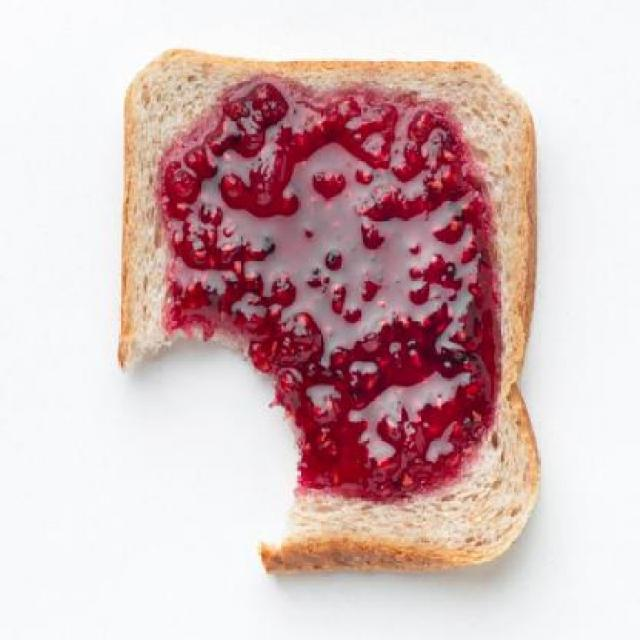Spread: (153, 76, 504, 504)
